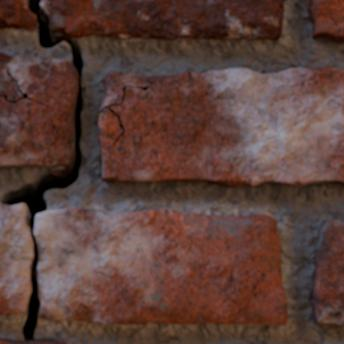brick: (99, 68, 343, 186), (0, 53, 77, 166), (313, 220, 343, 324), (308, 0, 343, 42), (0, 339, 68, 343)
broken_brick: (35, 206, 288, 325), (42, 0, 284, 40), (0, 204, 31, 315), (0, 0, 36, 30)
crack: (0, 0, 85, 341), (99, 81, 153, 147)
